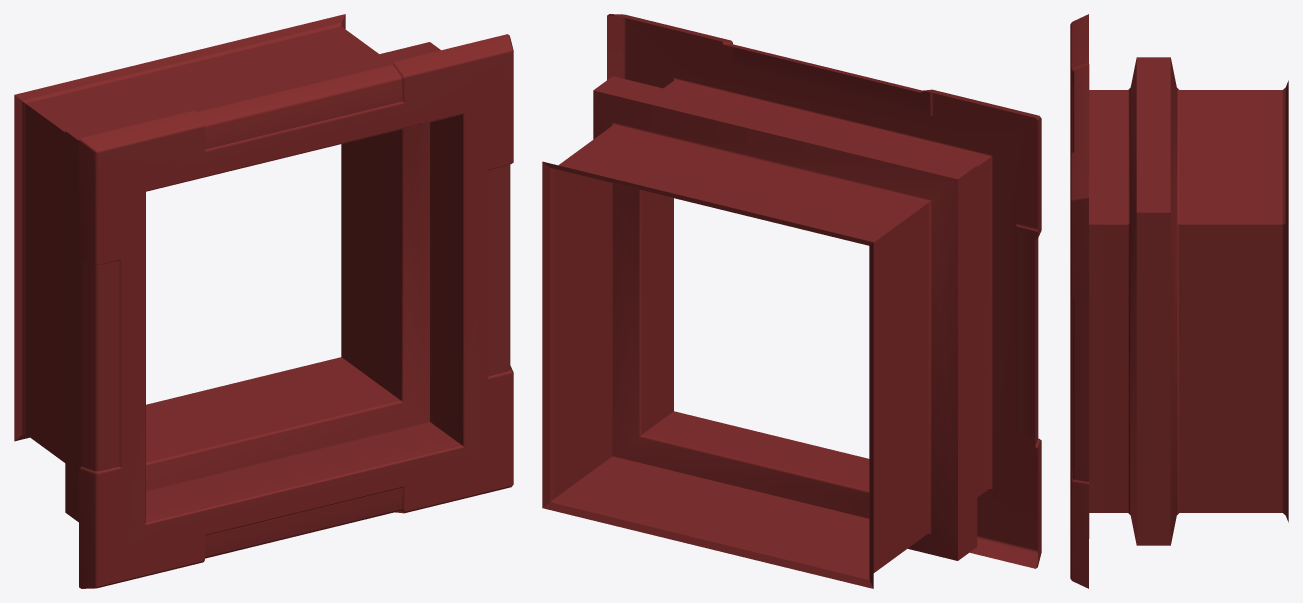
File: gate_base.fbx
3 renders of one model, left to right at view 1: azimuth 30°, elevation 25°; view 2: azimuth 150°, elevation 25°; view 3: azimuth 270°, elevation 25°, orthographic. The views are drawn at different scales.
Parts seen in each view (by area): view 1: gate_base; view 2: gate_base; view 3: gate_base.
Boxes of the visible parts, <box> form: gate_base: <box>14,14,513,588</box>; gate_base: <box>542,14,1041,588</box>; gate_base: <box>1070,14,1288,588</box>.
Size of the model in its own units: 214 by 214 by 108.
